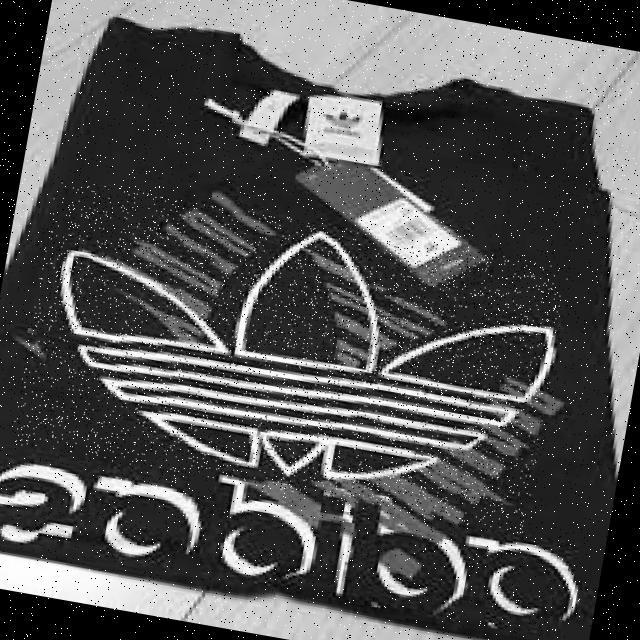Adidas: (10, 178, 570, 534), (303, 94, 374, 142)
